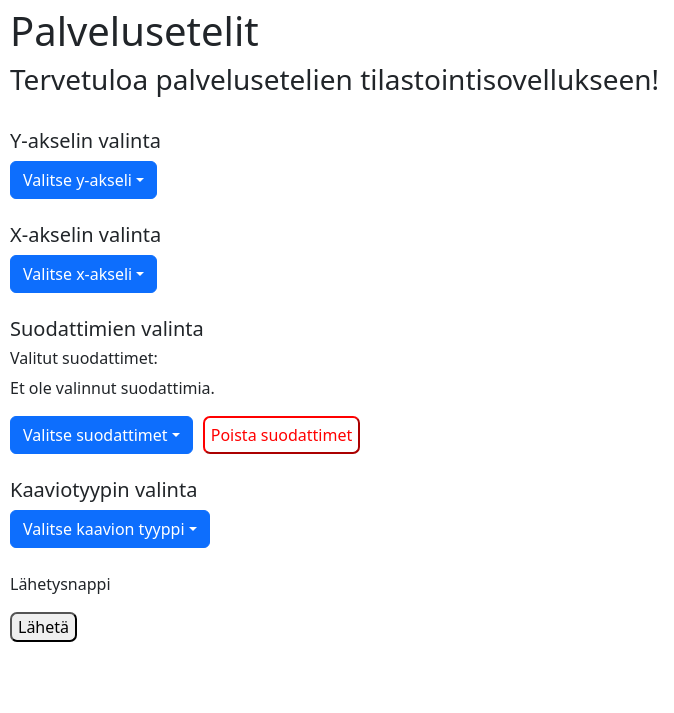
Test: App › tests handleSubmit when !xaxis
Click the button "Valitse y-akseli" at (84, 180), box [10,161,157,199]
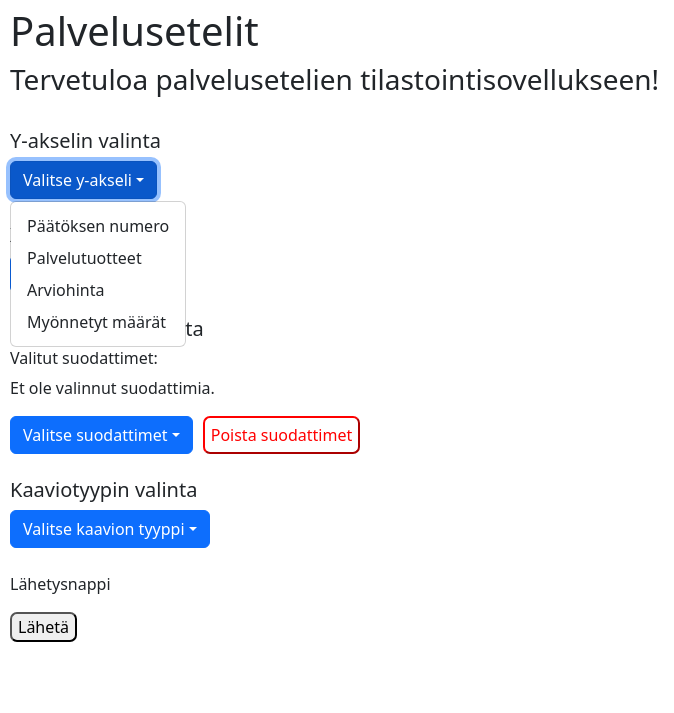
Click the button "Päätöksen numero" at (98, 226), box [27,215,169,237]
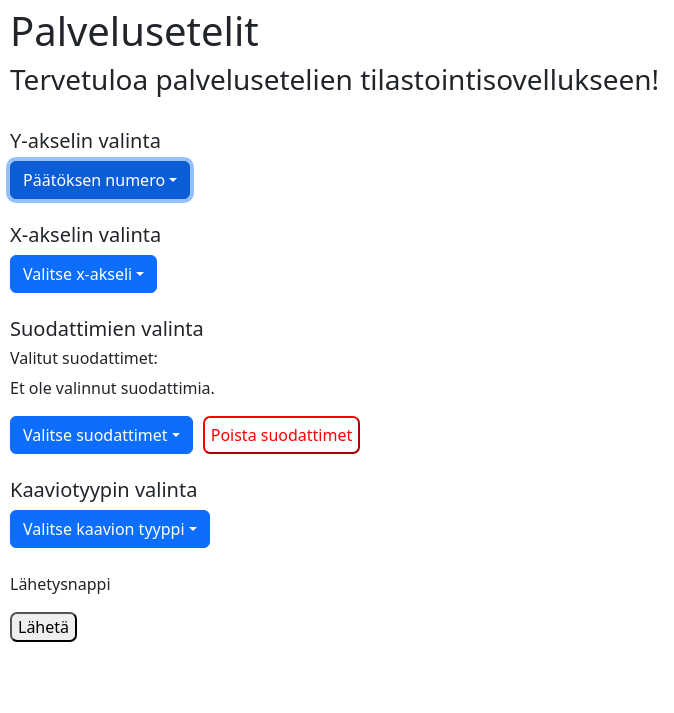
Click the button "Valitse kaavion tyyppi" at (110, 529), box [10,510,210,548]
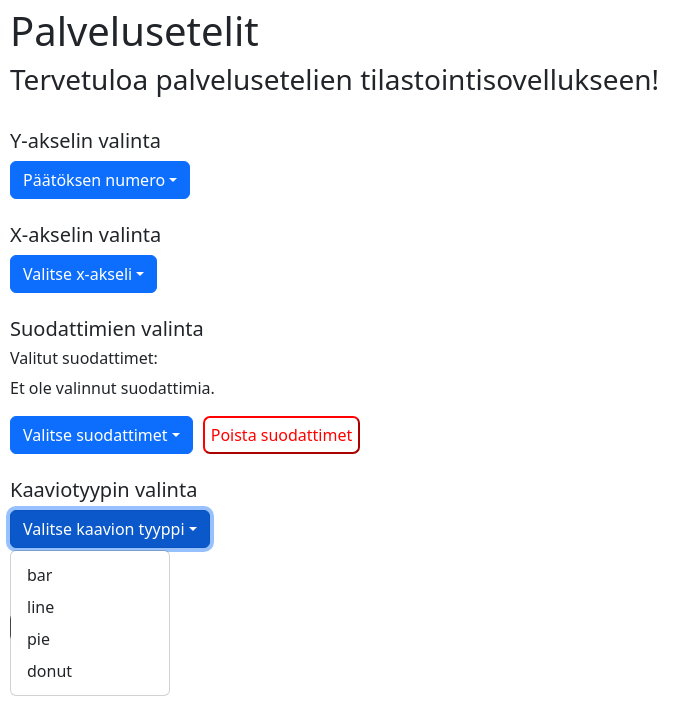
Click the button "bar" at (40, 575), box [27,564,52,586]
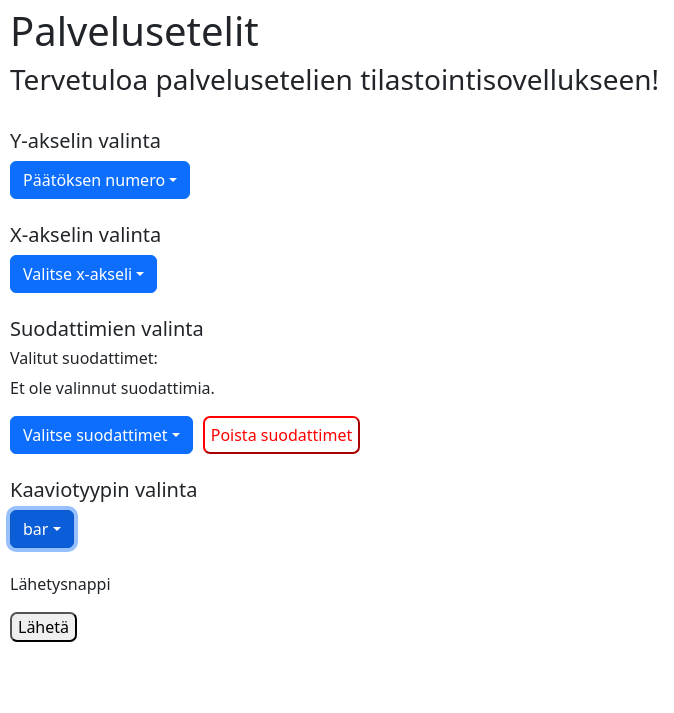
Click the button "Lähetä" at (44, 627), box [10,612,77,642]
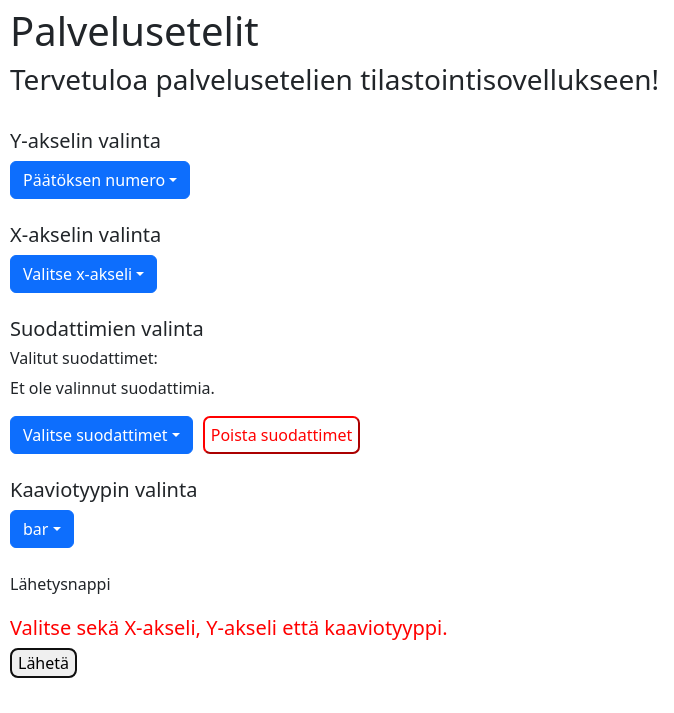
Now the heading "Valitse sekä X-akseli, Y-akseli että kaaviotyyppi." is shown, box [10,614,448,641]
